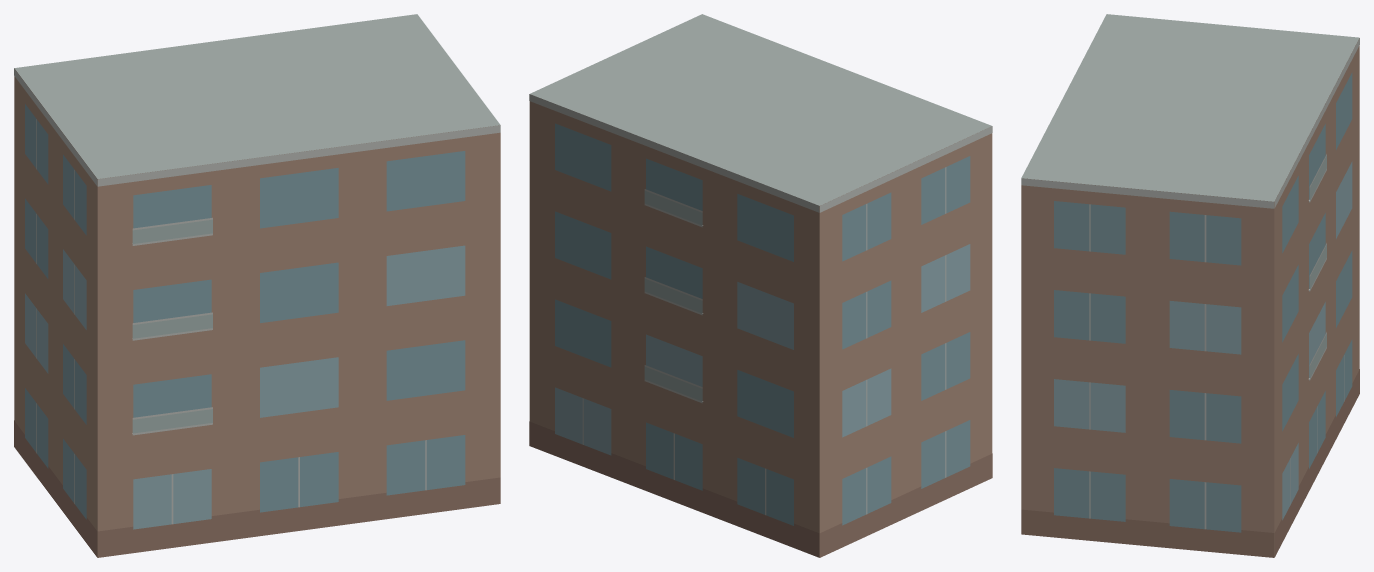
File: residential-ae0950d8-527a-4824-bd9d-d377218df5f7.glb
3 renders of one model, left to right at view 1: azimuth 30°, elevation 25°; view 2: azimuth 150°, elevation 25°; view 3: azimuth 270°, elevation 25°, orthographic. The views are drawn at different scales.
Visible parts, largest first — view 1: residential-ae0950d8-527a-4824-bd9d-d377218df5f7.tmp; view 2: residential-ae0950d8-527a-4824-bd9d-d377218df5f7.tmp; view 3: residential-ae0950d8-527a-4824-bd9d-d377218df5f7.tmp.
Part boxes in pixels (<box>): residential-ae0950d8-527a-4824-bd9d-d377218df5f7.tmp: <box>14,14,500,557</box>; residential-ae0950d8-527a-4824-bd9d-d377218df5f7.tmp: <box>529,14,992,557</box>; residential-ae0950d8-527a-4824-bd9d-d377218df5f7.tmp: <box>1021,14,1359,557</box>.
Bounding box in the file's own units: 13.8 × 12.2 × 10.52.
